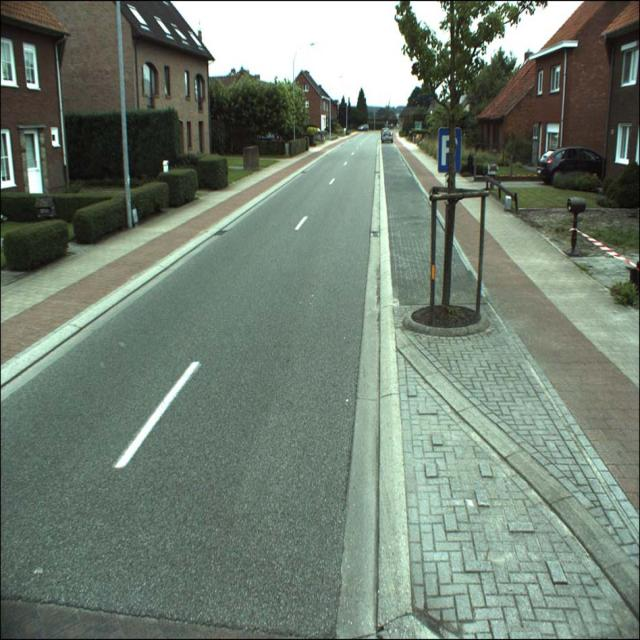park: (439, 129, 461, 171)
